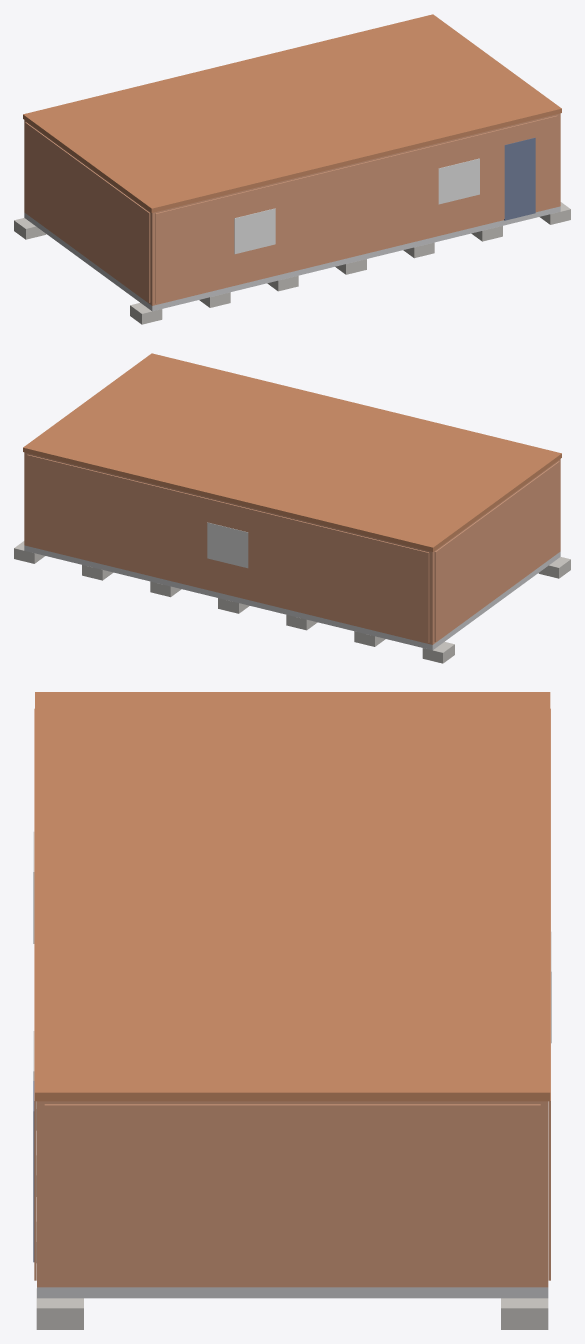
The model's file is Studio-40-Base-Terracotta-LOD2.glb.
The picture shows the model from 3 angles, top to bottom: view 1: azimuth 30°, elevation 25°; view 2: azimuth 150°, elevation 25°; view 3: azimuth 270°, elevation 25°; orthographic projection. The views are drawn at different scales.
Visible parts, largest first — view 1: RoofMain, ExteriorPanelsStandard, BaseFrame, WindowsStandard, ExteriorShell, FoundationBlocks, EntryDoor; view 2: RoofMain, ExteriorPanelsStandard, BaseFrame, ExteriorShell, FoundationBlocks, WindowsStandard; view 3: RoofMain, ExteriorPanelsStandard, ExteriorShell, BaseFrame, FoundationBlocks.
Boxes of the visible parts, <box> form: RoofMain: <box>23,14,561,212</box>; ExteriorPanelsStandard: <box>25,115,557,303</box>; BaseFrame: <box>24,206,560,311</box>; WindowsStandard: <box>234,158,479,254</box>; ExteriorShell: <box>24,113,560,305</box>; FoundationBlocks: <box>14,202,570,324</box>; EntryDoor: <box>504,137,535,220</box>; RoofMain: <box>23,353,561,551</box>; ExteriorPanelsStandard: <box>27,454,559,642</box>; BaseFrame: <box>24,545,560,650</box>; ExteriorShell: <box>24,452,560,644</box>; FoundationBlocks: <box>14,541,570,663</box>; WindowsStandard: <box>207,522,248,568</box>; RoofMain: <box>35,692,550,1101</box>; ExteriorPanelsStandard: <box>34,708,550,1284</box>; ExteriorShell: <box>37,1101,548,1287</box>; BaseFrame: <box>37,1287,548,1298</box>; FoundationBlocks: <box>36,1101,548,1329</box>.
Bounding box in the file's own units: 12.49 × 3.17 × 6.53.
